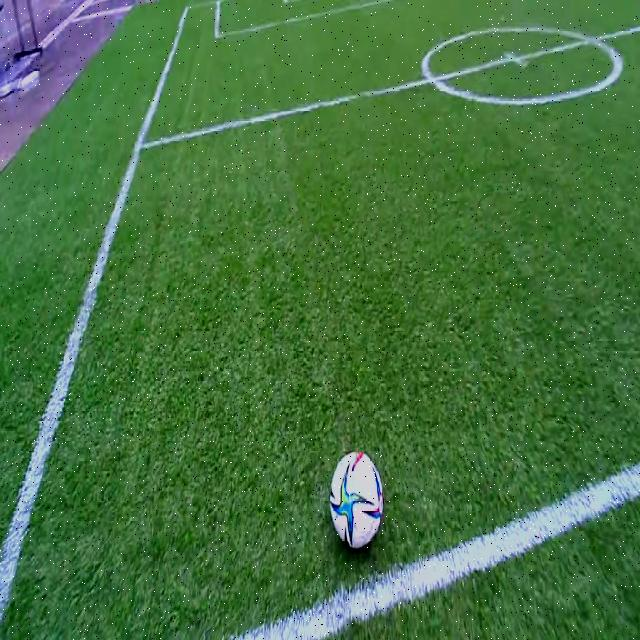ball: (330, 450, 384, 550)
